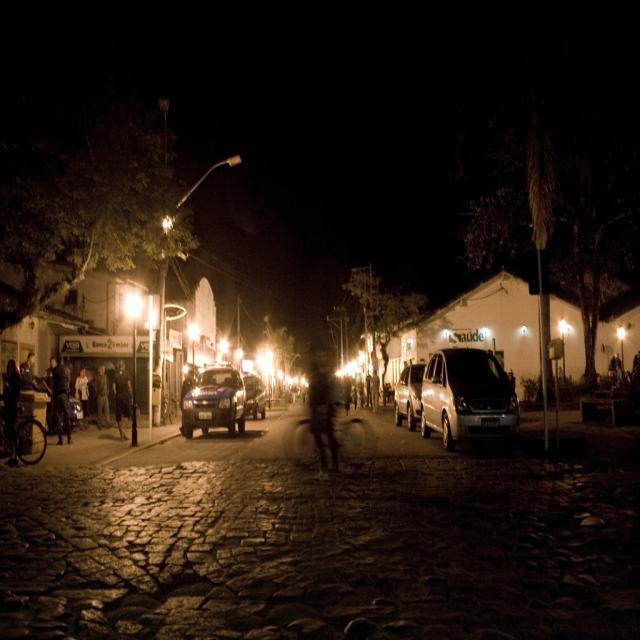car: (422, 340, 520, 442), (182, 365, 247, 432)
